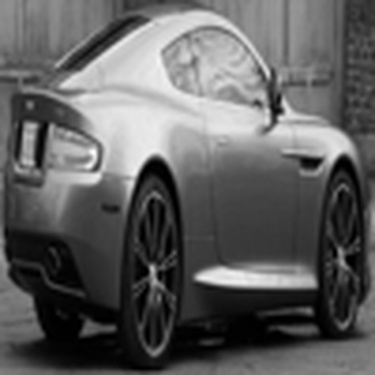car: (13, 4, 374, 346)
